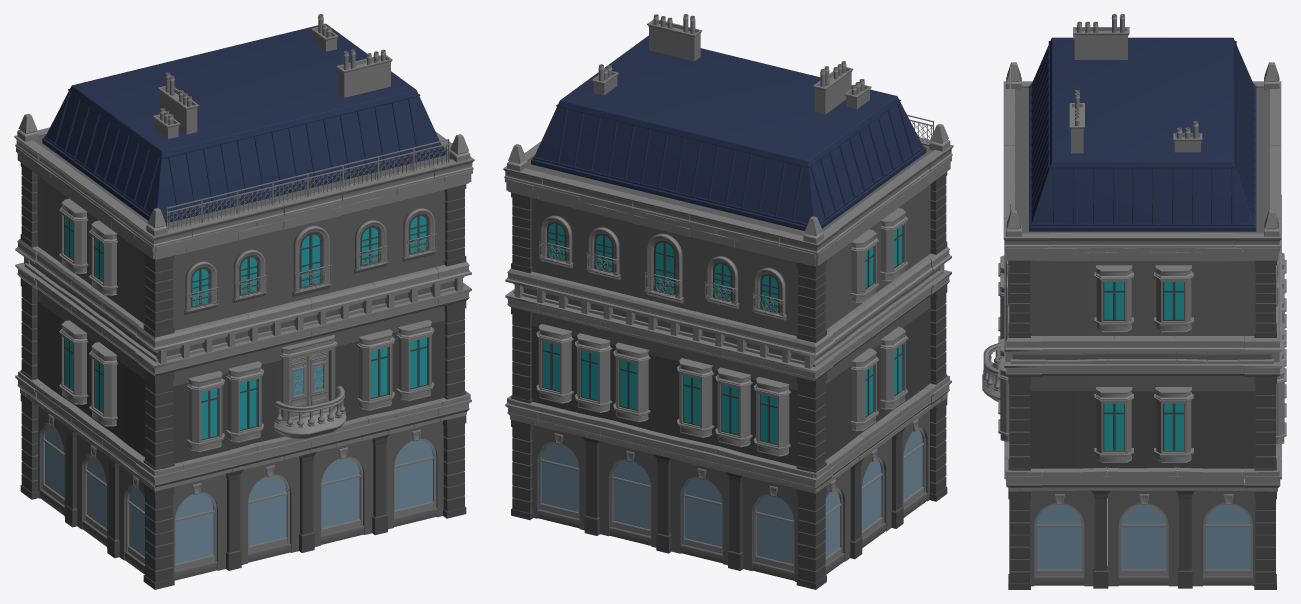
The model's file is SM_building_boutique_france.fbx.
3 renders of one model, left to right at view 1: azimuth 30°, elevation 25°; view 2: azimuth 150°, elevation 25°; view 3: azimuth 270°, elevation 25°, orthographic. The views are drawn at different scales.
Parts seen in each view (by area): view 1: Box220; view 2: Box220; view 3: Box220.
Part boxes in pixels (bbox=[...]): Box220: bbox=[14, 14, 474, 589]; Box220: bbox=[503, 14, 953, 589]; Box220: bbox=[982, 14, 1286, 589].
Size of the model in its own units: 590 by 791 by 477.
